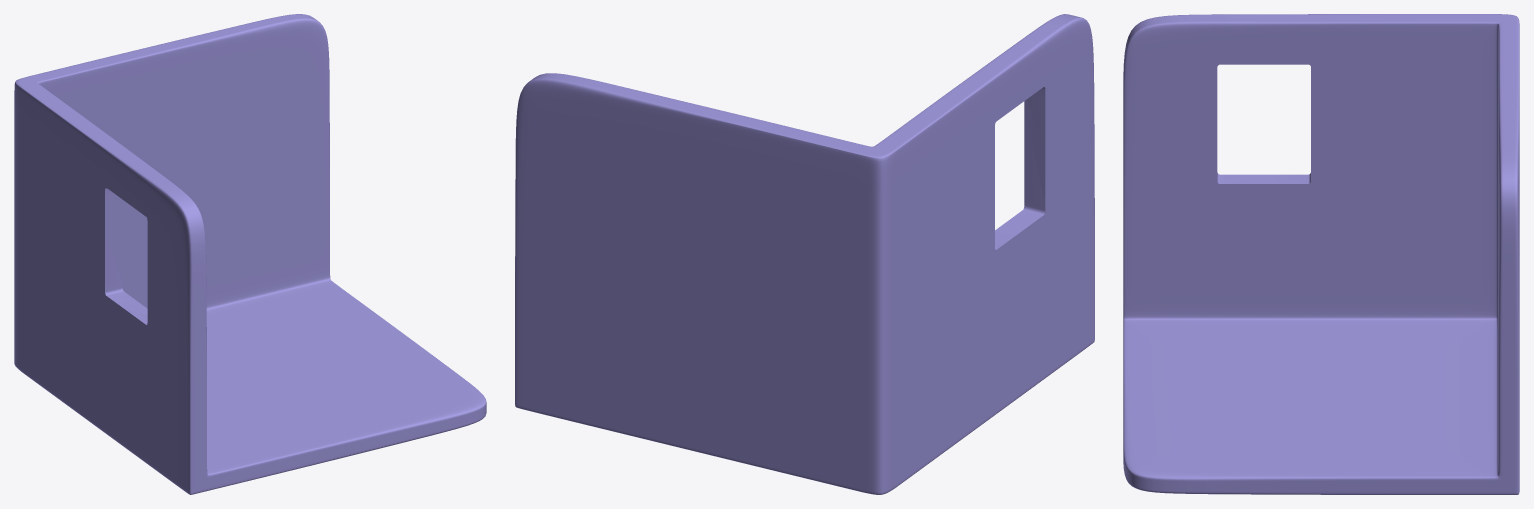
Rendered from room-puple.glb.
The picture shows the model from 3 angles, left to right: view 1: azimuth 30°, elevation 25°; view 2: azimuth 150°, elevation 25°; view 3: azimuth 270°, elevation 25°; orthographic projection. The views are drawn at different scales.
Parts seen in each view (by area): view 1: Boolean; view 2: Boolean; view 3: Boolean.
Part boxes in pixels (x1,y1,x2,y2): Boolean: [14, 14, 486, 494]; Boolean: [515, 14, 1094, 494]; Boolean: [1123, 14, 1519, 494].
Size of the model in its own units: 8.12 by 7.12 by 8.12.
